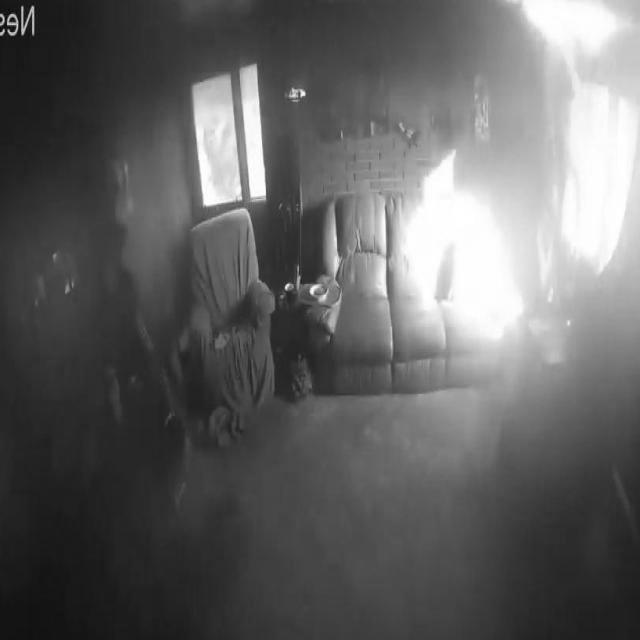smoke: (506, 0, 627, 60)
